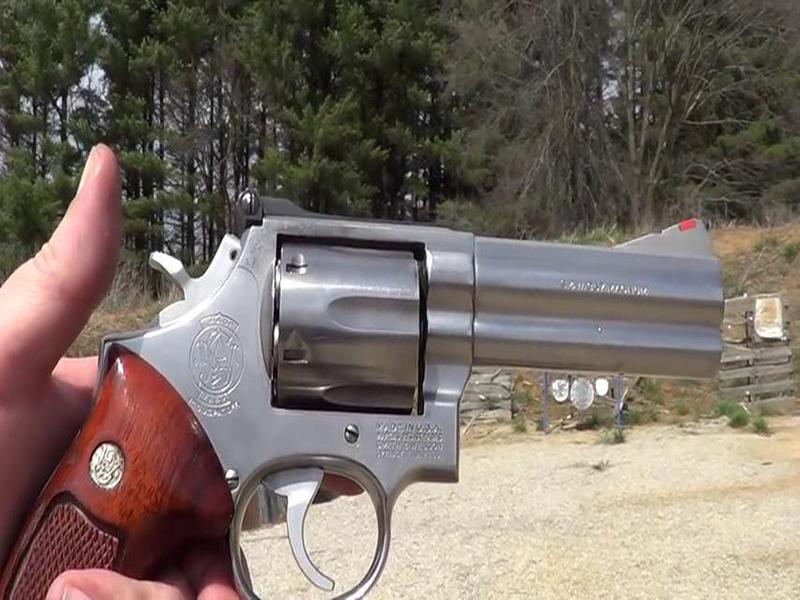Revolver: (67, 173, 731, 600)
